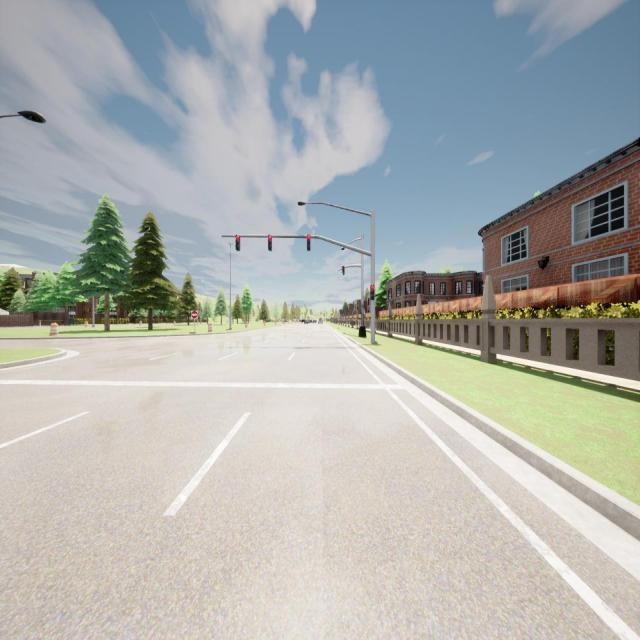Traffic_Signs: (190, 310, 198, 320)
Vehicle: (317, 318, 323, 324), (312, 319, 317, 324), (308, 318, 312, 324), (300, 318, 304, 322), (304, 320, 308, 324)
traffic_light: (370, 285, 375, 300), (268, 234, 272, 250), (236, 236, 240, 251), (307, 234, 310, 250), (341, 266, 345, 275)
